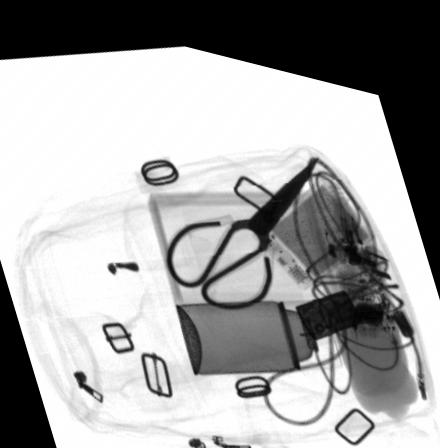Lighter: (332, 198, 364, 251)
Powerbank: (254, 166, 374, 278)
Scissors: (165, 139, 320, 299)
Sprayer: (177, 284, 343, 366)
